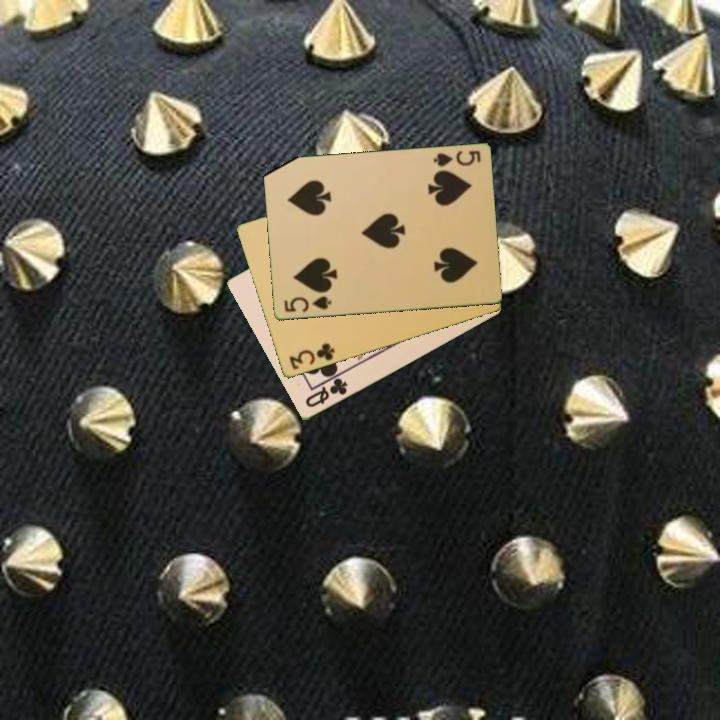3c: (285, 340, 338, 373)
5s: (430, 147, 483, 170), (280, 293, 334, 315)
Qc: (302, 375, 350, 411)
